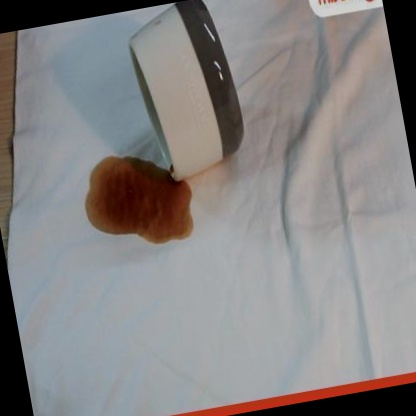coffee: (108, 162, 172, 231)
